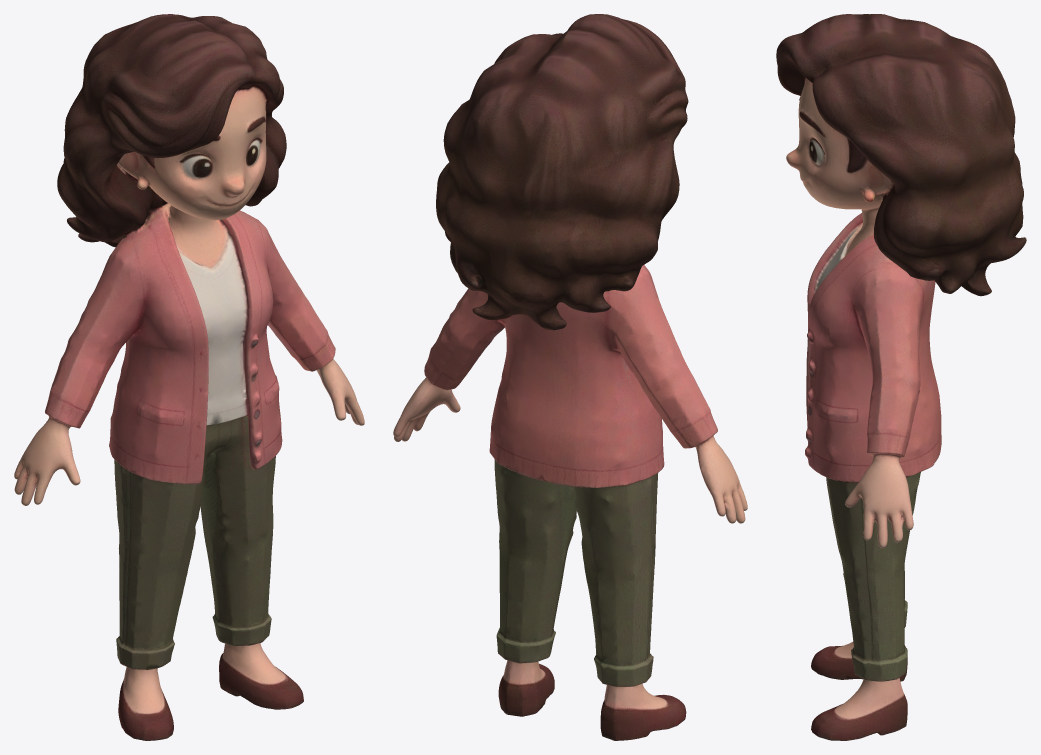
File: Meshy_AI_Cozy_Cardigan_Woman_0726155546_texture.fbx
The picture shows the model from 3 angles, left to right: view 1: azimuth 30°, elevation 25°; view 2: azimuth 150°, elevation 25°; view 3: azimuth 270°, elevation 25°; orthographic projection.
Visible parts, largest first — view 1: mesh_node; view 2: mesh_node; view 3: mesh_node.
Part boxes in pixels (x1,y1,x2,y2): mesh_node: [14, 14, 364, 740]; mesh_node: [393, 14, 747, 740]; mesh_node: [776, 14, 1026, 740].
Bounding box in the file's own units: 99.25 × 190 × 63.65.
1 material, 1 textured.
